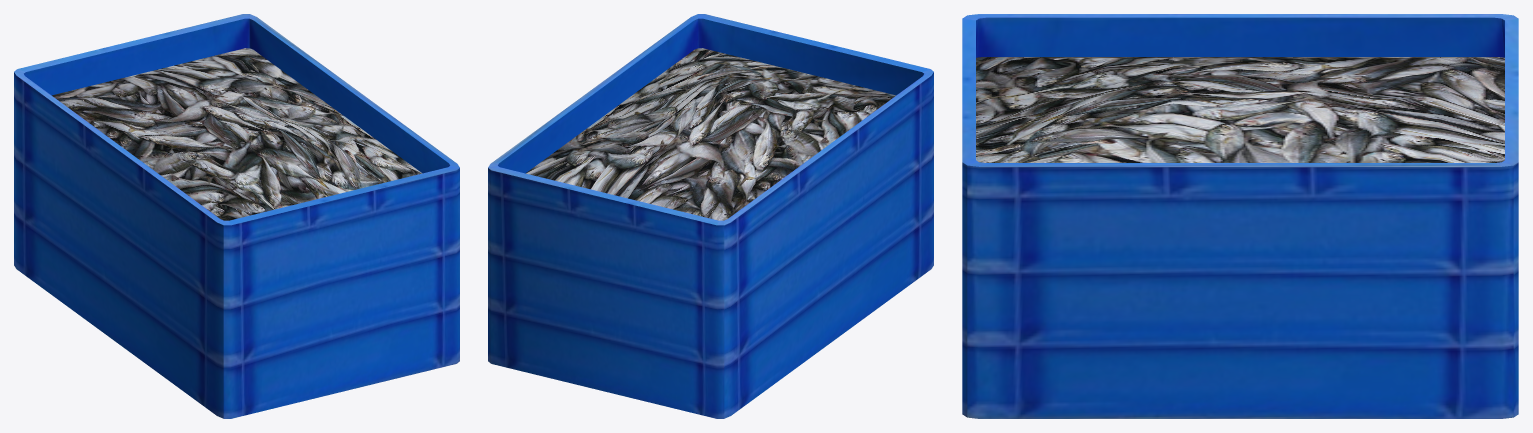
Rendered from low_poly_fish_crate.glb.
3 views of the same model, side by side, from view 1: azimuth 30°, elevation 25°; view 2: azimuth 150°, elevation 25°; view 3: azimuth 270°, elevation 25° (orthographic). The views are drawn at different scales.
Parts seen in each view (by area): view 1: M_FishCrate; view 2: M_FishCrate; view 3: M_FishCrate.
Part boxes in pixels (left/top/right/bottom): M_FishCrate: left=14, top=14, right=459, bottom=418; M_FishCrate: left=488, top=14, right=933, bottom=418; M_FishCrate: left=962, top=14, right=1518, bottom=418.
Size of the model in its own units: 0.5148 by 0.4021 by 0.792.
2 materials, 2 textured.
